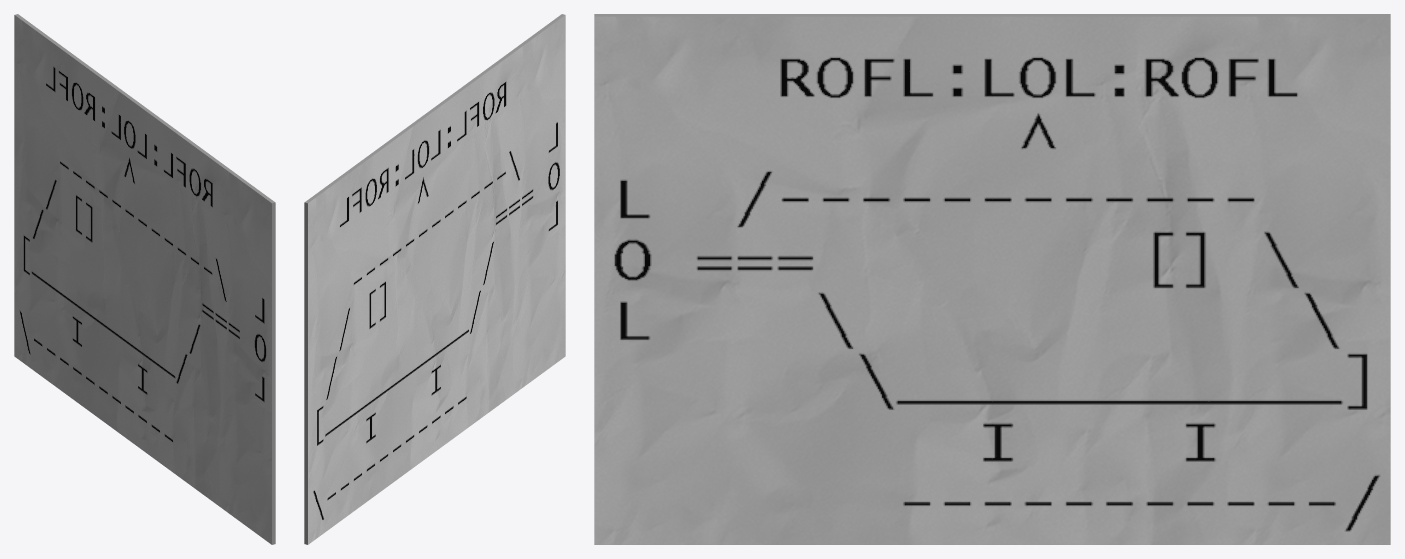
File: Vehicle_RoflCopter.fbx
3 renders of one model, left to right at view 1: azimuth 30°, elevation 25°; view 2: azimuth 150°, elevation 25°; view 3: azimuth 270°, elevation 25°, orthographic. The views are drawn at different scales.
Parts seen in each view (by area): view 1: Cube; view 2: Cube; view 3: Cube.
Part boxes in pixels (left/top/right/bottom): Cube: left=14, top=14, right=275, bottom=544; Cube: left=304, top=14, right=565, bottom=544; Cube: left=594, top=14, right=1390, bottom=544.
Size of the model in its own units: 3.14 by 287 by 391.
